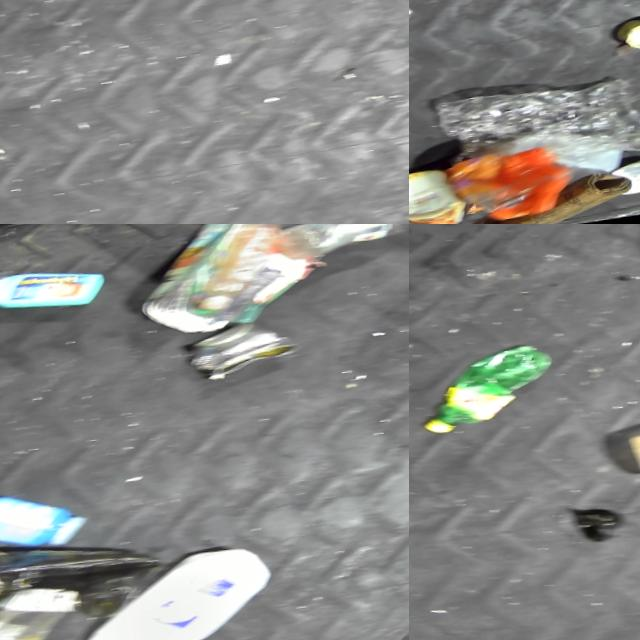can: (186, 321, 305, 390), (612, 162, 640, 207), (616, 21, 640, 62)
milk_jug: (80, 548, 278, 640)
plastic_bottle: (275, 224, 409, 272)
